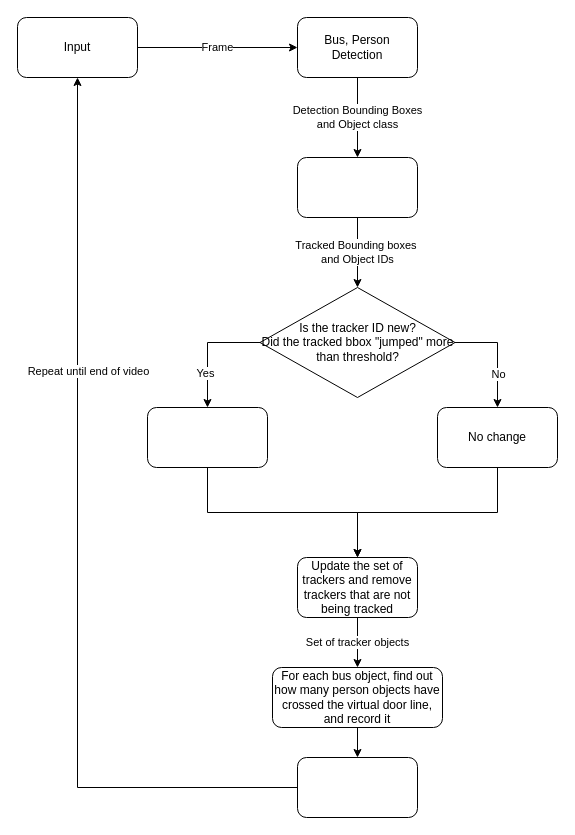
Some shapes in this 575 by 835 pixel diagram are drawn without their labels. Each missing label, with the centre of its shape:
"Create new track object" belongs at pixel 207 437.
"Output to screen or as a video file and save the record as a csv file" belongs at pixel 357 787.
"SORT Tracker" belongs at pixel 357 187.
